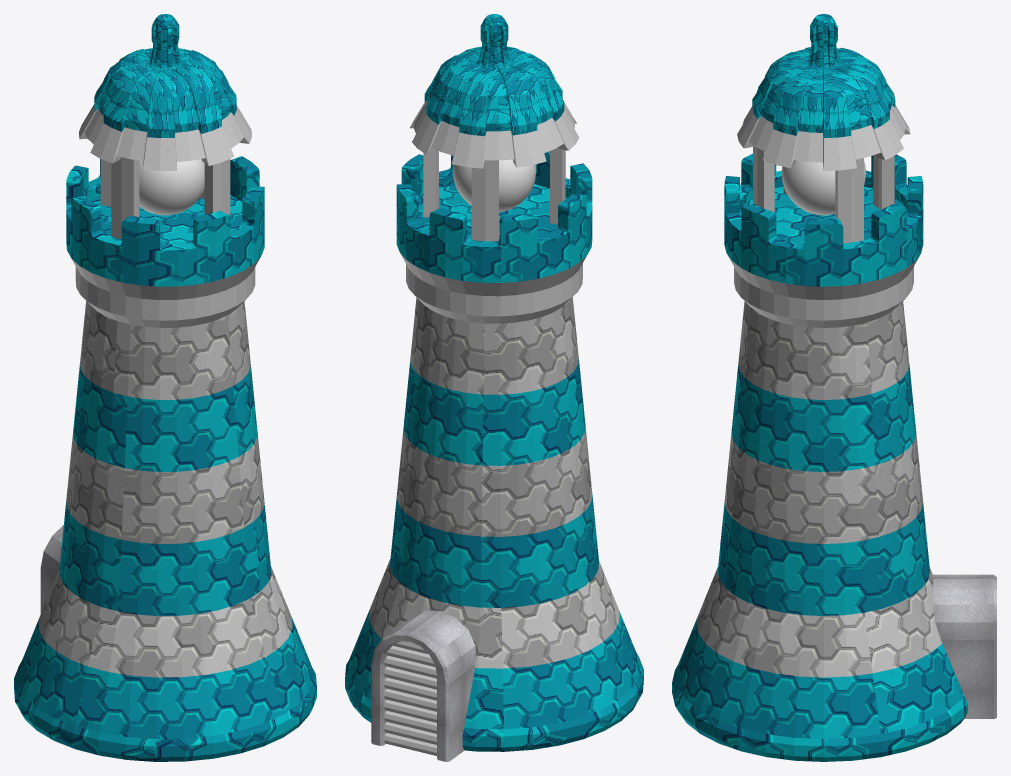
Rendered from Lighthouse.fbx.
The picture shows the model from 3 angles, left to right: view 1: azimuth 30°, elevation 25°; view 2: azimuth 150°, elevation 25°; view 3: azimuth 270°, elevation 25°; orthographic projection.
Visible parts, largest first — view 1: Cylinder.001, Sphere.001; view 2: Cylinder.001, Sphere.001; view 3: Cylinder.001, Sphere.001.
Boxes of the visible parts, x1,y1,x2,y2 form: Cylinder.001: (14, 14, 316, 761); Sphere.001: (139, 159, 204, 215); Cylinder.001: (345, 14, 643, 761); Sphere.001: (452, 159, 536, 212); Cylinder.001: (672, 14, 996, 761); Sphere.001: (781, 160, 866, 215).
Size of the model in its own units: 331 by 822 by 354.
